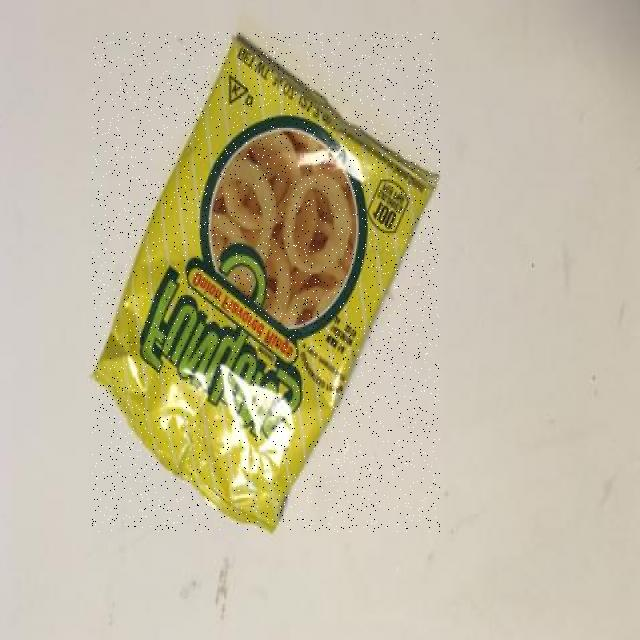wrapper: (92, 32, 440, 531)
